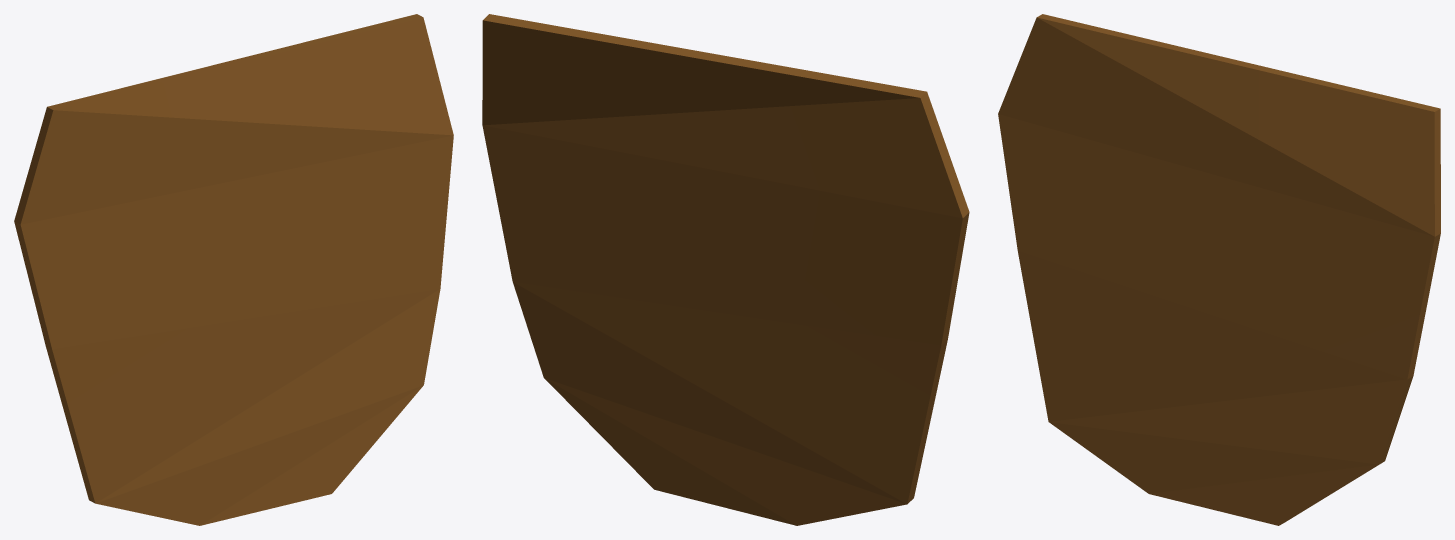
File: TURKEY FINGER PUPPETLEFT..fbx
3 renders of one model, left to right at view 1: azimuth 30°, elevation 25°; view 2: azimuth 150°, elevation 25°; view 3: azimuth 330°, elevation 25°, orthographic. The views are drawn at different scales.
Parts seen in each view (by area): view 1: TURKEY_FINGER_PUPPETLEFT_; view 2: TURKEY_FINGER_PUPPETLEFT_; view 3: TURKEY_FINGER_PUPPETLEFT_.
Boxes of the visible parts, x1=… form: TURKEY_FINGER_PUPPETLEFT_: x1=14, y1=14, x2=453, y2=525; TURKEY_FINGER_PUPPETLEFT_: x1=482, y1=14, x2=969, y2=525; TURKEY_FINGER_PUPPETLEFT_: x1=998, y1=14, x2=1440, y2=525.
Size of the model in its own units: 9.59 by 9.16 by 1.48.
